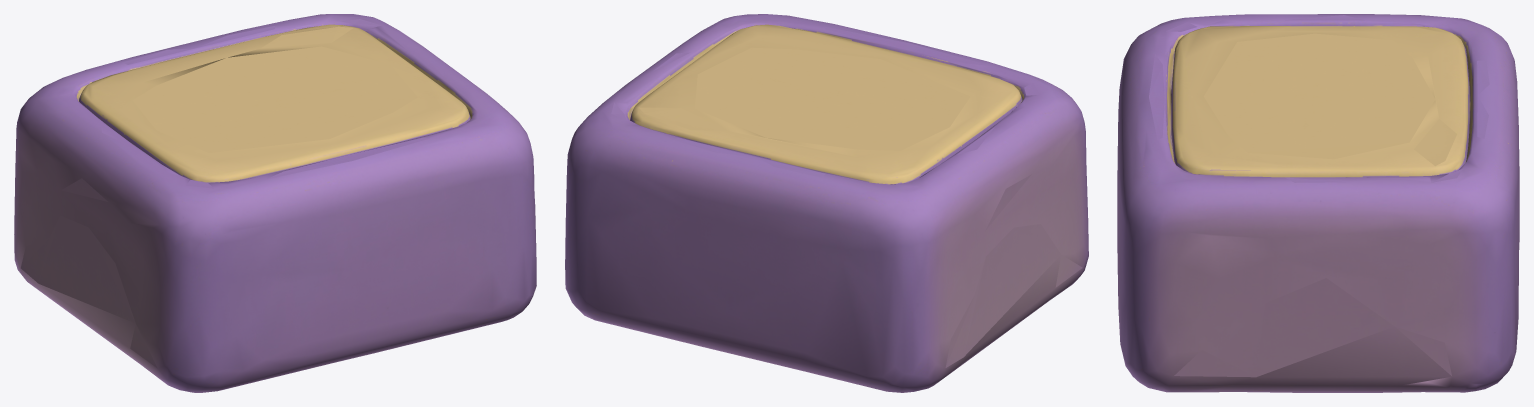
The model's file is GlazeBlock.fbx.
3 views of the same model, side by side, from view 1: azimuth 30°, elevation 25°; view 2: azimuth 150°, elevation 25°; view 3: azimuth 270°, elevation 25° (orthographic). The views are drawn at different scales.
Parts seen in each view (by area): view 1: GlazeBlock; view 2: GlazeBlock; view 3: GlazeBlock.
Boxes of the visible parts, x1=… form: GlazeBlock: x1=14, y1=14, x2=536, y2=392; GlazeBlock: x1=565, y1=14, x2=1088, y2=392; GlazeBlock: x1=1117, y1=14, x2=1519, y2=392.
Size of the model in its own units: 10 by 5.11 by 8.79.
1 material, 1 textured.
